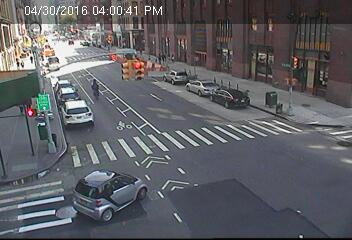neg: (85, 76, 102, 98), (245, 92, 256, 106), (113, 175, 122, 187), (90, 39, 98, 51), (116, 117, 124, 129), (117, 33, 125, 44), (140, 83, 148, 94), (38, 31, 46, 41), (182, 119, 190, 129), (65, 34, 72, 44), (190, 69, 197, 79), (28, 107, 34, 115), (270, 93, 276, 101), (129, 59, 135, 67)
pos: (155, 53, 165, 66), (12, 56, 21, 69), (158, 51, 167, 63), (17, 57, 26, 68), (27, 54, 35, 64)
